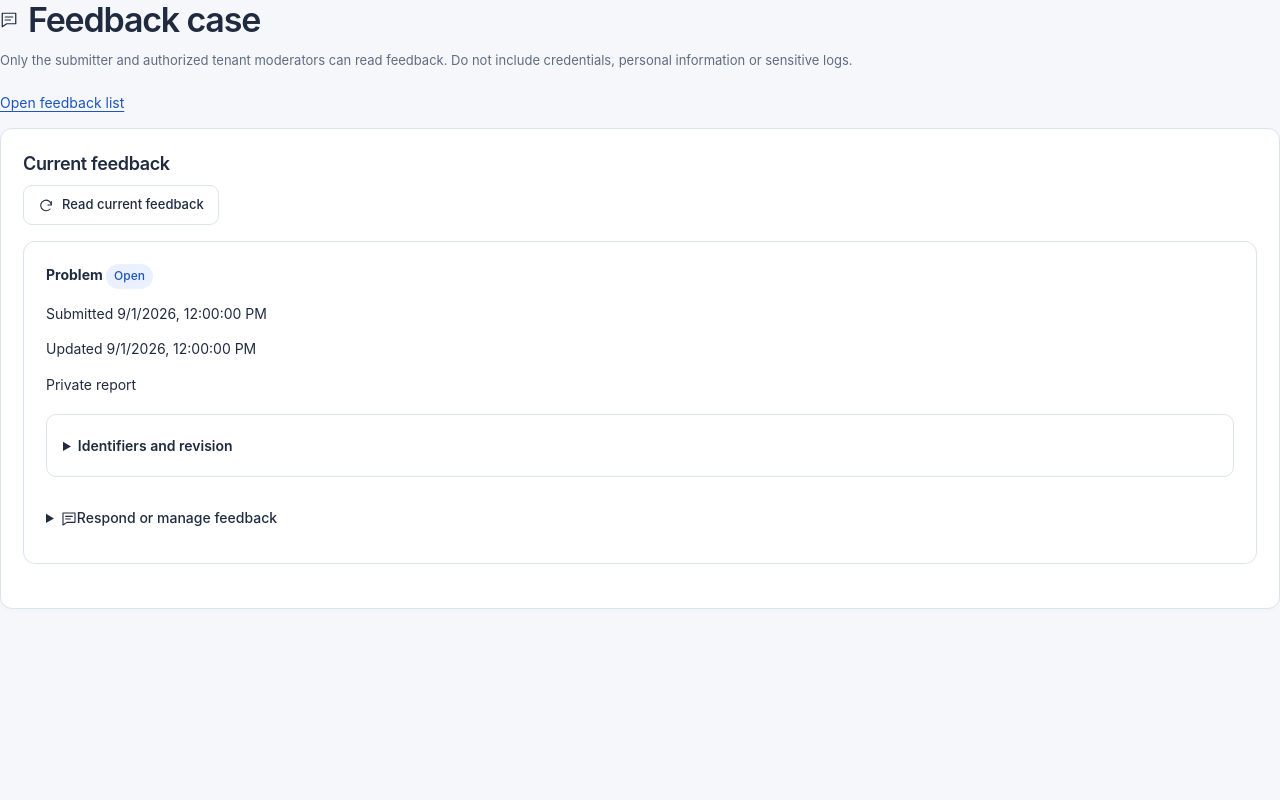
requires a deliberate exact target read before offering namespace-scoped resource links
Check: the text "Private report" is shown, box [46,376,136,393]
Check: the link "Resource and versions" is not shown
Click the heading "Identifiers and revision" at (155, 445), box [78,437,233,454]
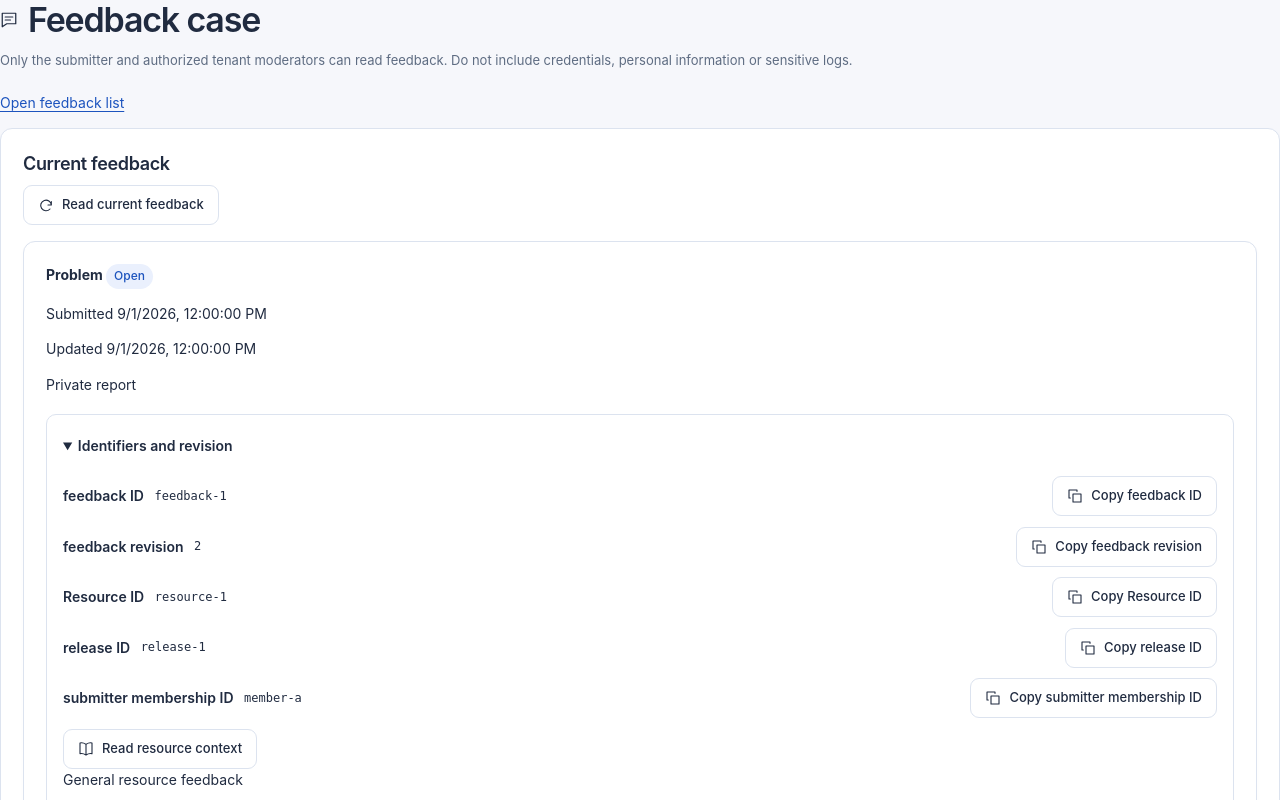
Click the button "Read resource context" at (160, 749), box [63,729,257,769]
(page scrolled)
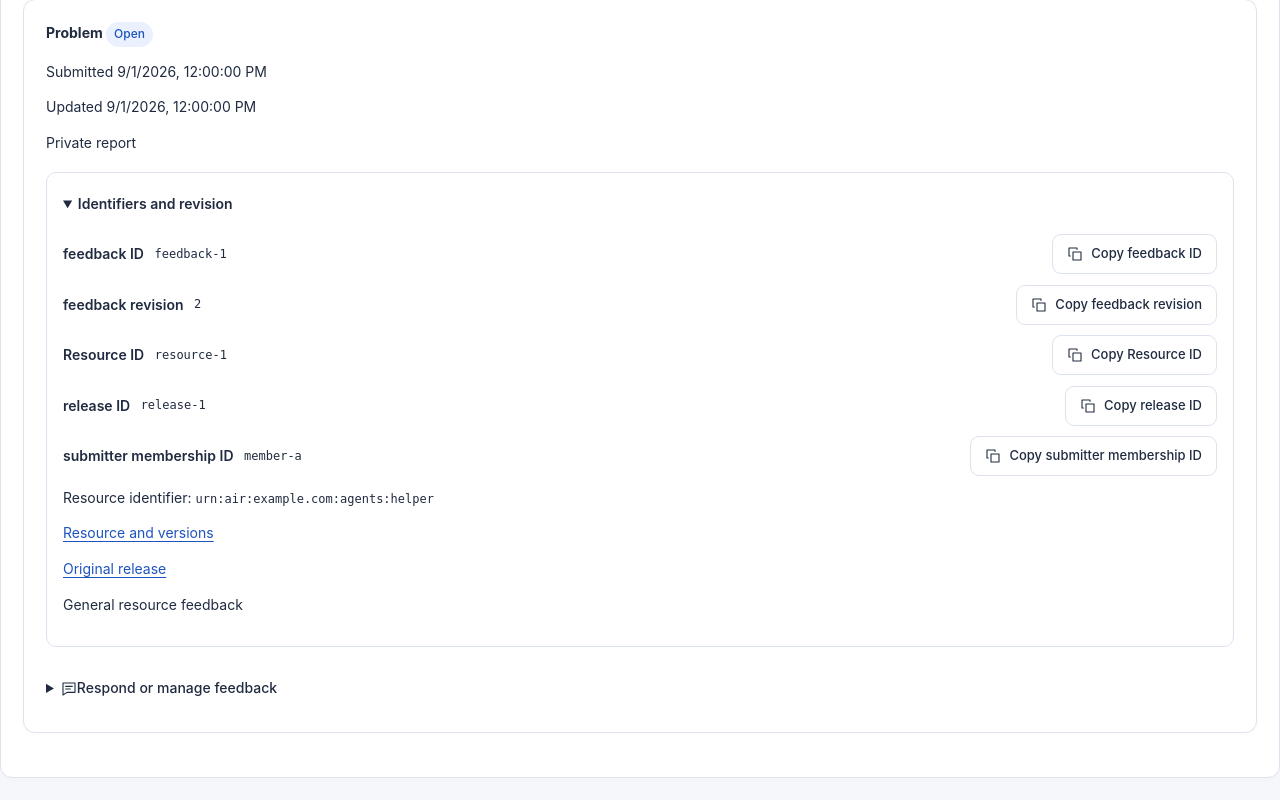
Check: the link "Resource and versions" is shown, box [63,524,214,542]
Check: the link "Original release" is shown, box [63,560,166,577]
